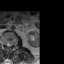CCS_normal: (7, 42, 9, 49)
LFS_normal: (11, 42, 13, 47)
LLS_normal: (9, 42, 11, 48)
RFS_stenosis: (4, 41, 6, 47)
RLS_normal: (6, 42, 8, 48)
